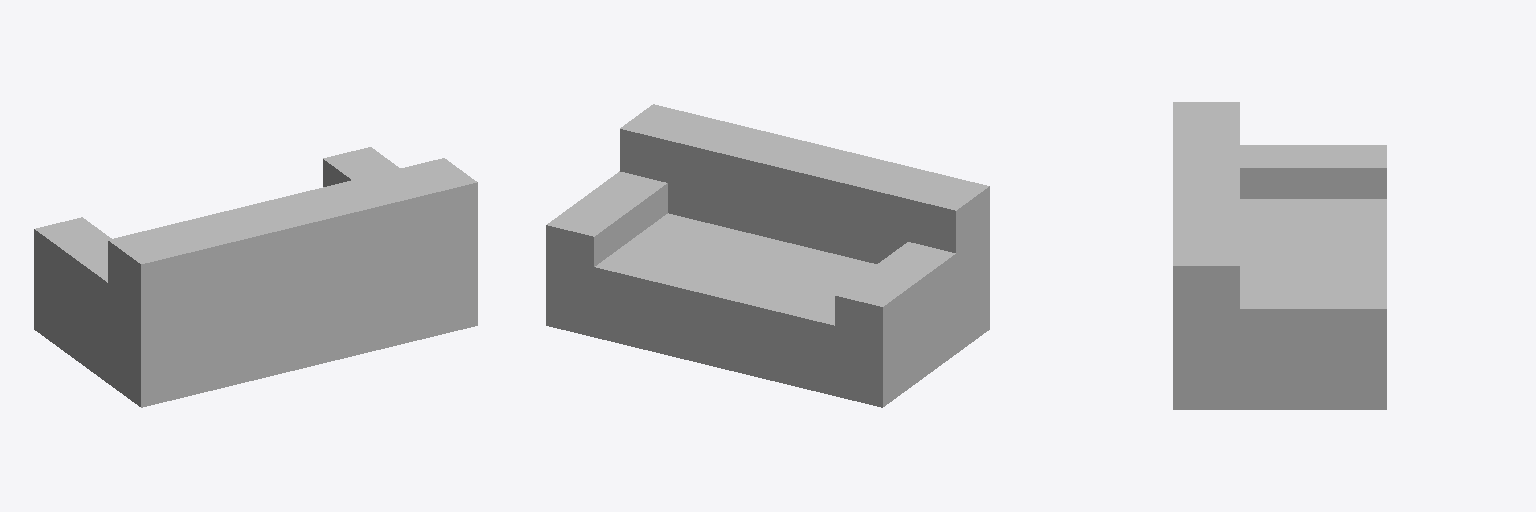
Rendered from sofa.obj.
The picture shows the model from 3 angles: view 1: azimuth 30°, elevation 25°; view 2: azimuth 150°, elevation 25°; view 3: azimuth 270°, elevation 25°; orthographic projection.
Parts seen in each view (by area): view 1: Cube; view 2: Cube; view 3: Cube.
Part boxes in pixels (x1,y1,x2,y2): Cube: (34, 147, 477, 407); Cube: (546, 104, 989, 407); Cube: (1173, 102, 1386, 409).
Bounding box in the file's own units: 2 × 0.814 × 1.1.